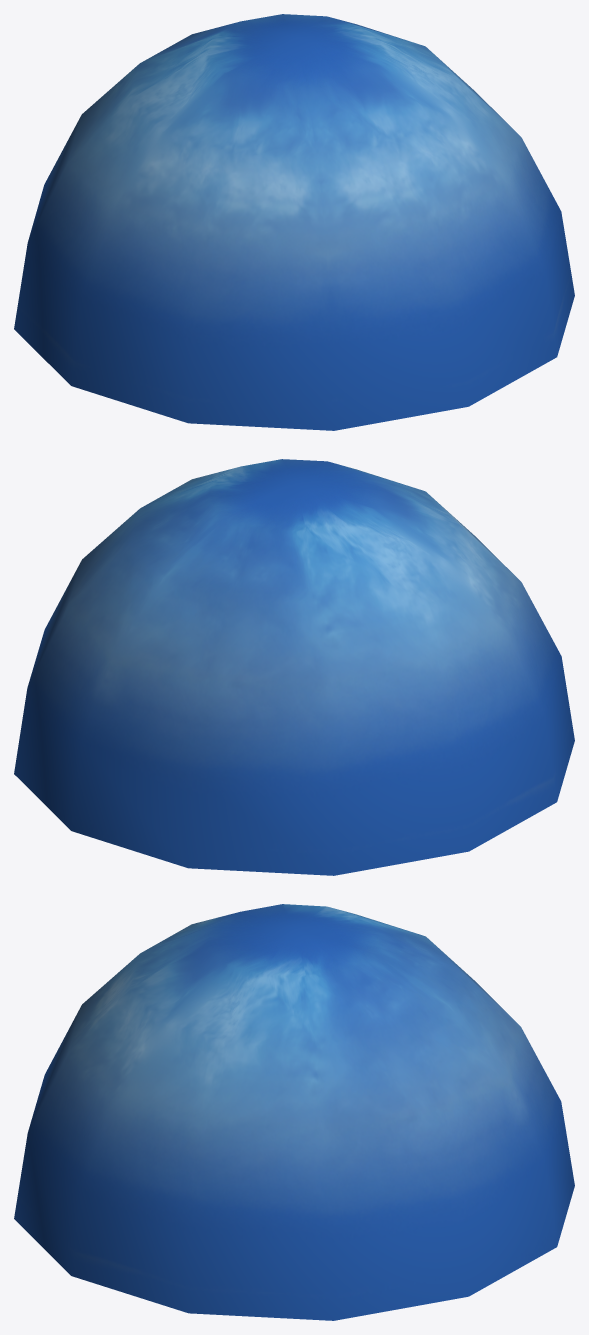
Rendered from env_tatooine_canyon_pre.glb.
3 views of the same model, one above another, from view 1: azimuth 30°, elevation 25°; view 2: azimuth 150°, elevation 25°; view 3: azimuth 270°, elevation 25° (orthographic).
Parts seen in each view (by area): view 1: skybox_01_mesh; view 2: skybox_01_mesh; view 3: skybox_01_mesh.
Part boxes in pixels (x1,y1,x2,y2): skybox_01_mesh: (14, 14, 574, 430); skybox_01_mesh: (14, 459, 574, 875); skybox_01_mesh: (14, 904, 574, 1320).
Bounding box in the file's own units: 144 × 78.11 × 144.
Materials: 11 (11 with a texture image).
